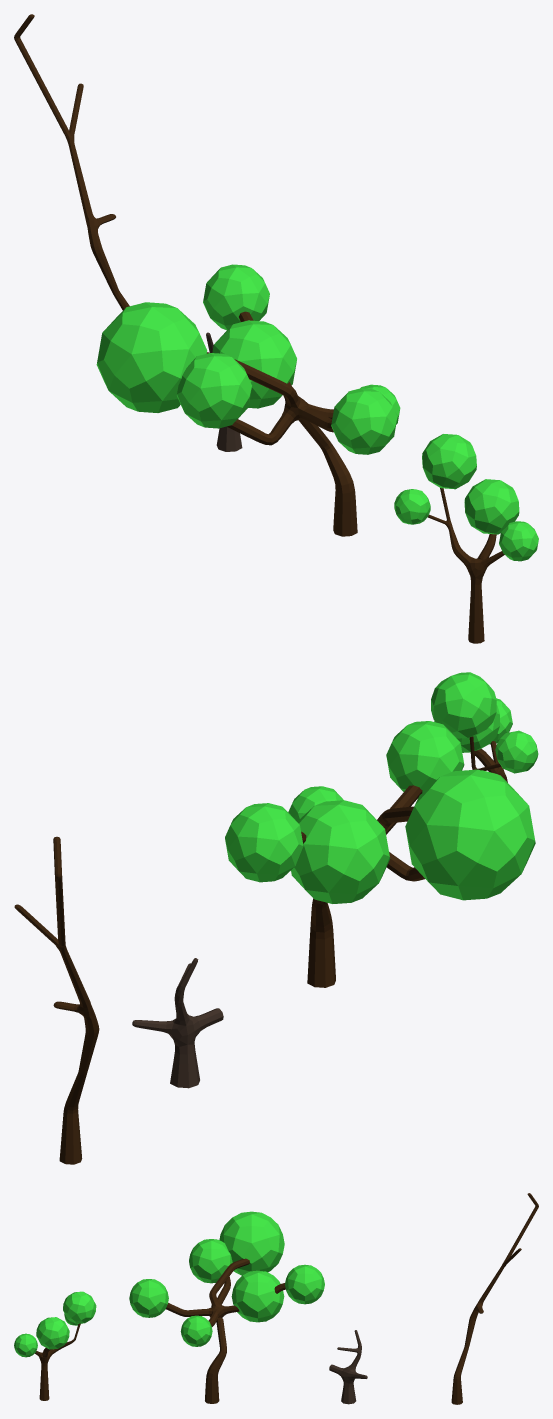
Rendered from tree1.fbx.
The picture shows the model from 3 angles, top to bottom: view 1: azimuth 30°, elevation 25°; view 2: azimuth 150°, elevation 25°; view 3: azimuth 270°, elevation 25°; orthographic projection. The views are drawn at different scales.
Parts seen in each view (by area): view 1: AGAC1, AGAC2, AGAC3; view 2: AGAC1, AGAC2, AGAC3, KOK; view 3: AGAC1, AGAC2, AGAC3, KOK.
Boxes of the visible parts, x1,y1,x2,y2 form: AGAC1: [96, 264, 400, 536]; AGAC2: [394, 434, 538, 643]; AGAC3: [14, 14, 129, 310]; AGAC1: [225, 721, 535, 987]; AGAC2: [431, 672, 538, 782]; AGAC3: [14, 836, 99, 1164]; KOK: [132, 958, 223, 1088]; AGAC1: [129, 1211, 324, 1403]; AGAC2: [14, 1291, 96, 1400]; AGAC3: [451, 1193, 538, 1404]; KOK: [329, 1330, 367, 1404].
Size of the model in its own units: 1148 by 1479 by 3591.
